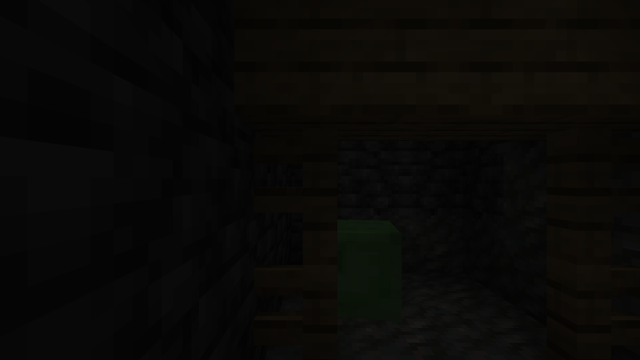slimes: (337, 217, 407, 319)
